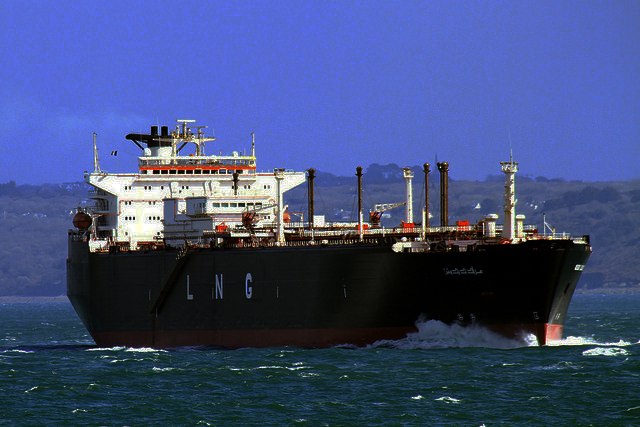LNG_ship: (65, 111, 600, 348)
